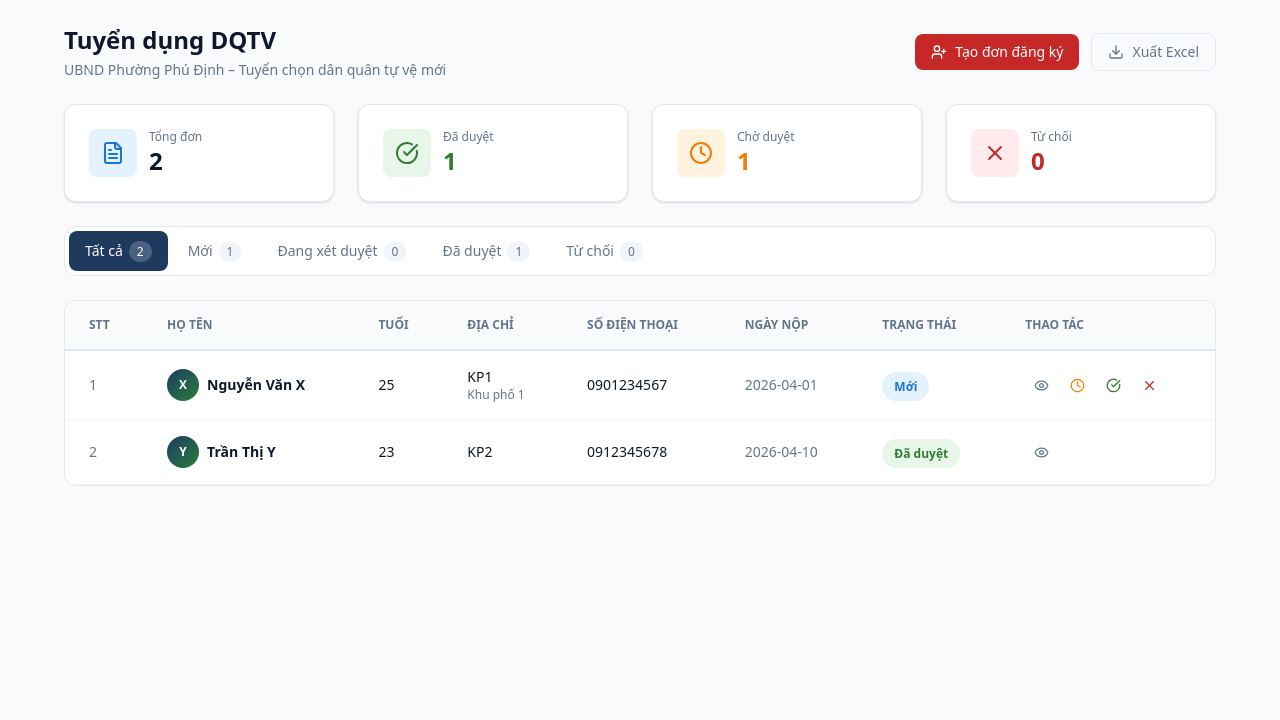
Test: RecruitmentPage › detail modal › clicking eye icon opens detail modal with member data
Expected: the row with test id "application-row-a1" is shown, [65, 350, 1215, 420]
What coordinates should you click on to do the following:
click the button titled "Xem chi tiết" in the row of "Nguyễn Văn X"
I would click on:
 (1041, 385)
Its box is [1025, 369, 1057, 401].
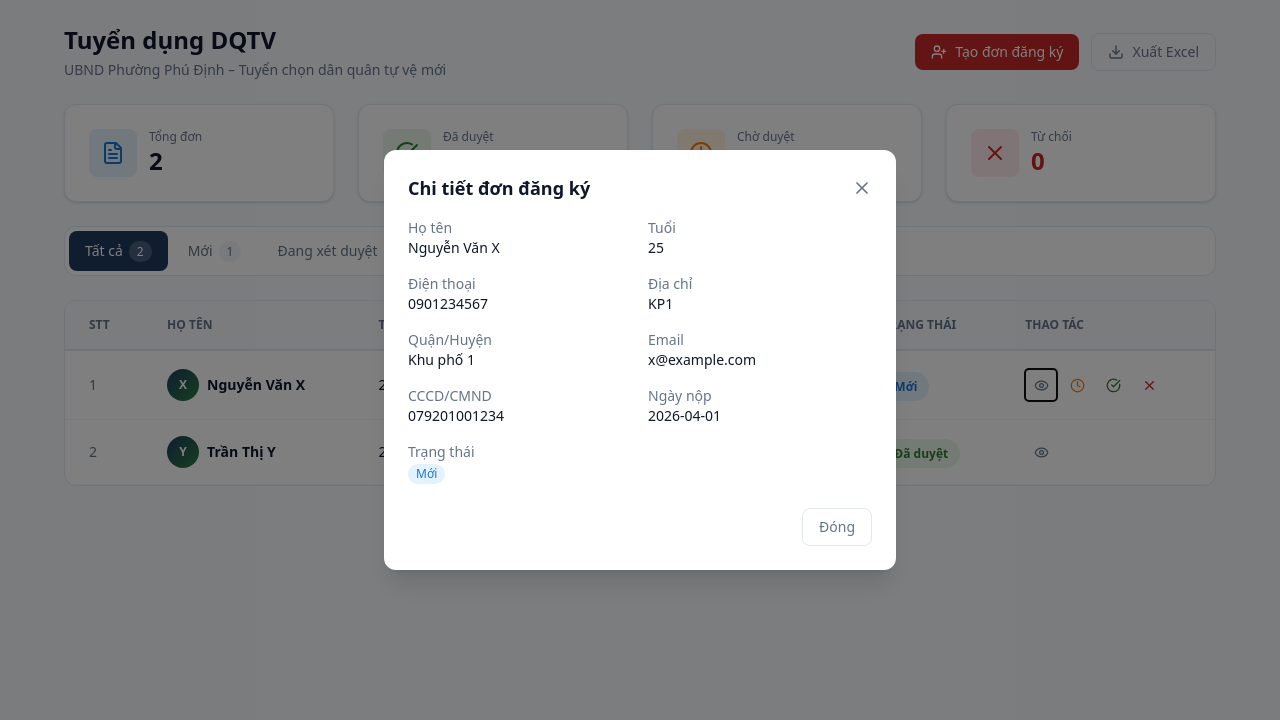
Expected: the heading "Chi tiết đơn đăng ký" is shown, [408, 174, 590, 202]
